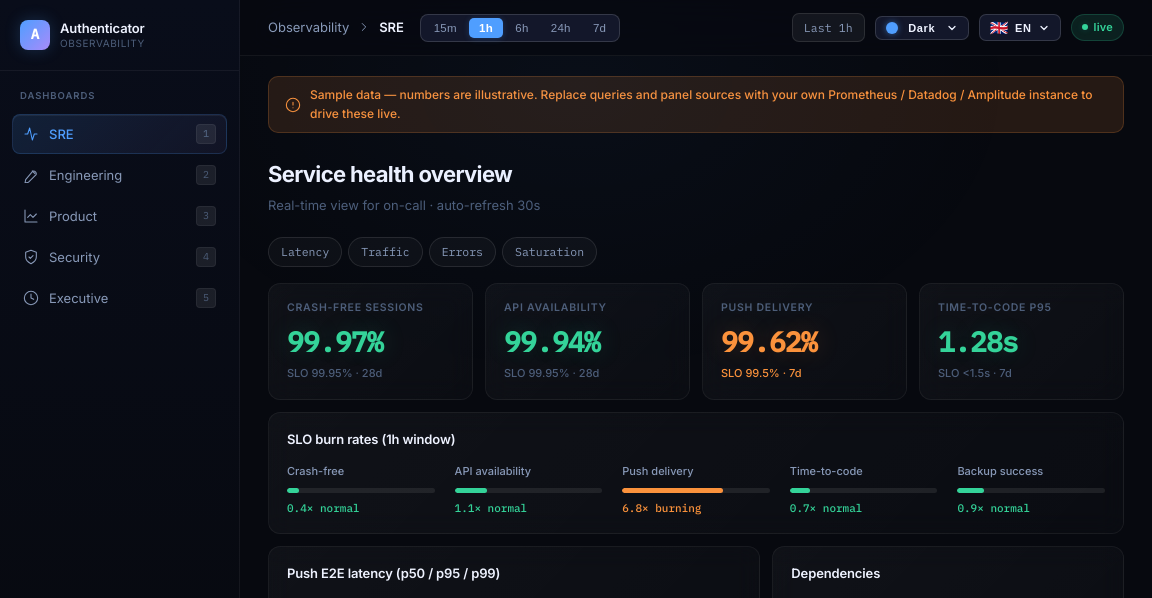
Language selector — Topbar rendering › opens dropdown on button click and lists all 5 languages
Click the button with aria-label "select language". click: (1020, 28)
box: [979,14,1061,41]
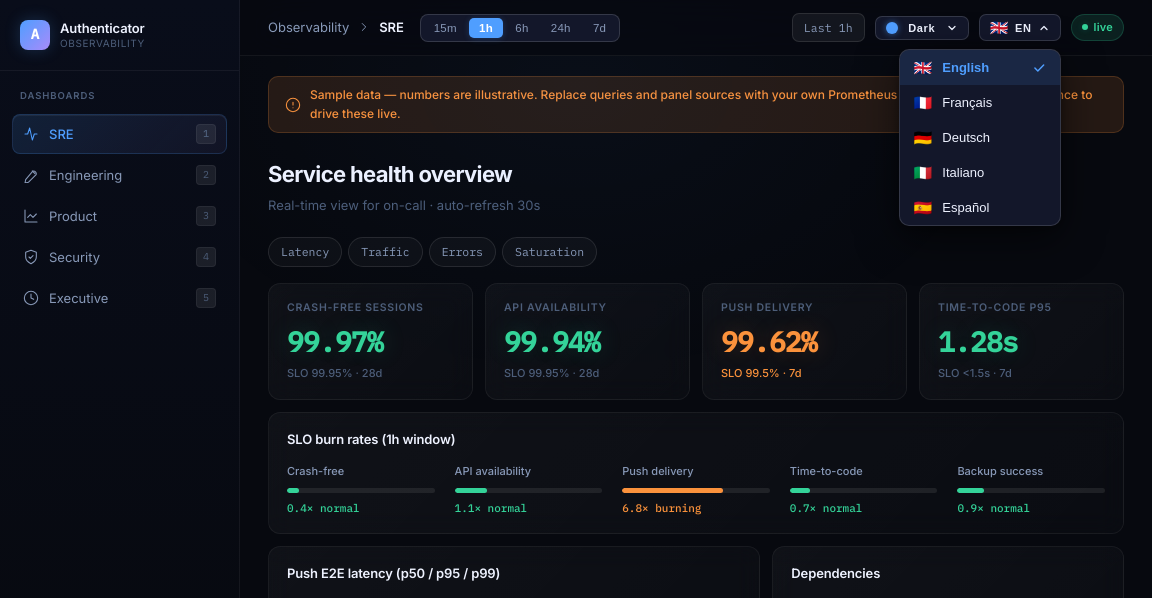
Result: the text "English" is shown at [942,60,989,75]
Result: the text "Français" is shown at [942,95,992,110]
Result: the text "Deutsch" is shown at [942,130,990,145]
